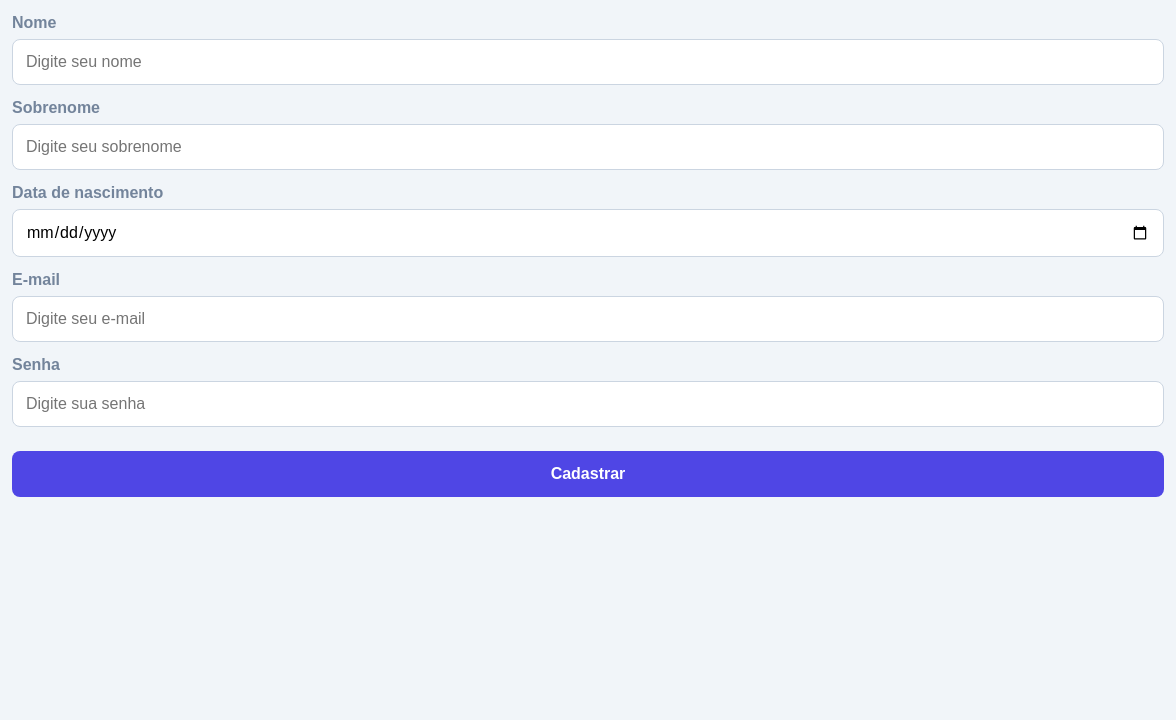
CadastroForm › informa quando o e-mail já está cadastrado
In the field labelled "Nome": [588, 62] box [12,39,1164,85], type "Amanda"
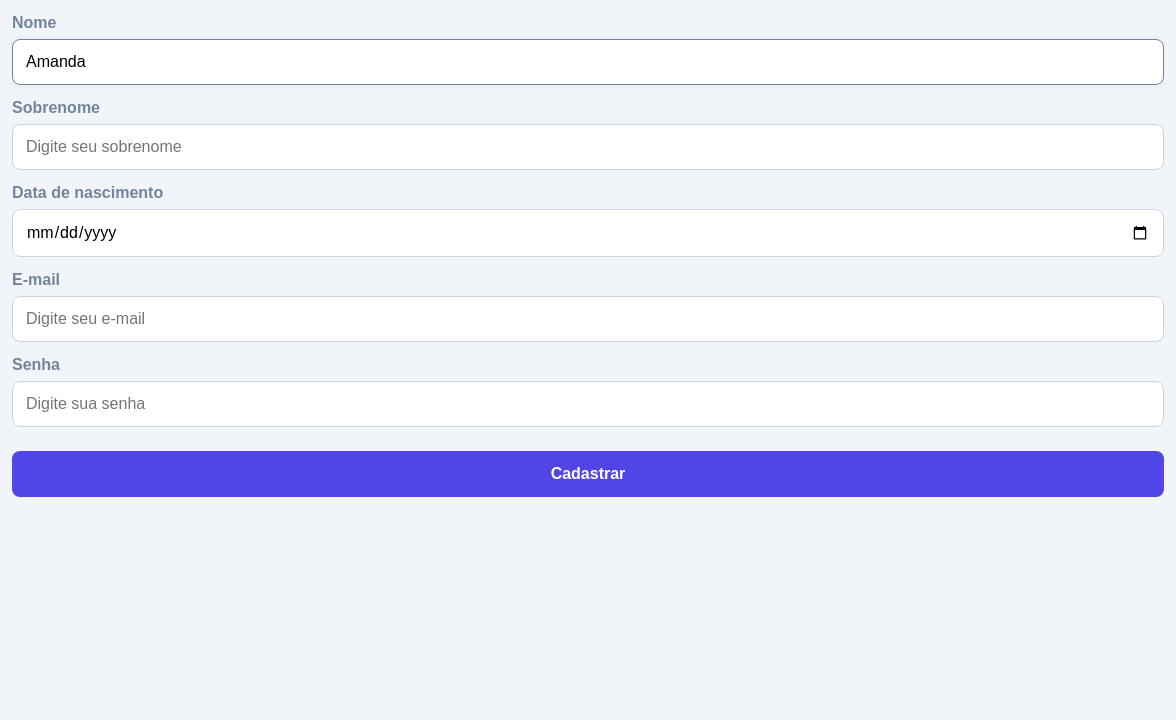
In the field labelled "Sobrenome": [588, 147] box [12,124,1164,170], type "Stunitz"
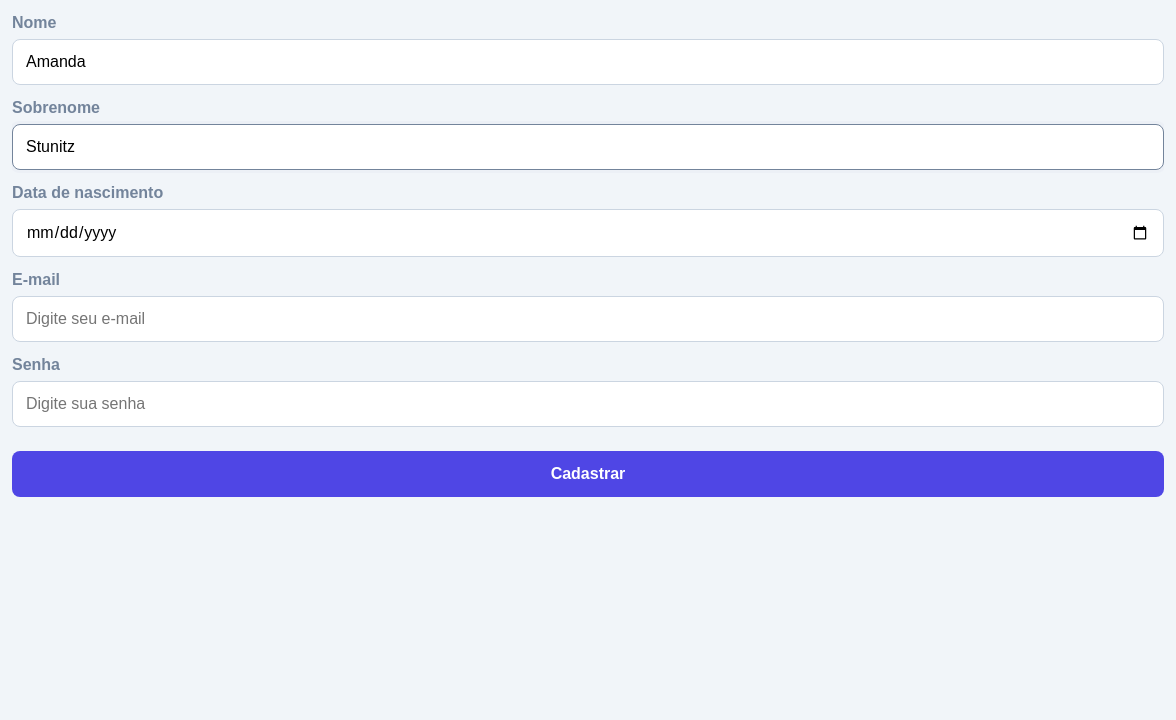
In the date field labelled "Data de nascimento": [588, 233] box [12,209,1164,257], type "2000-05-20"
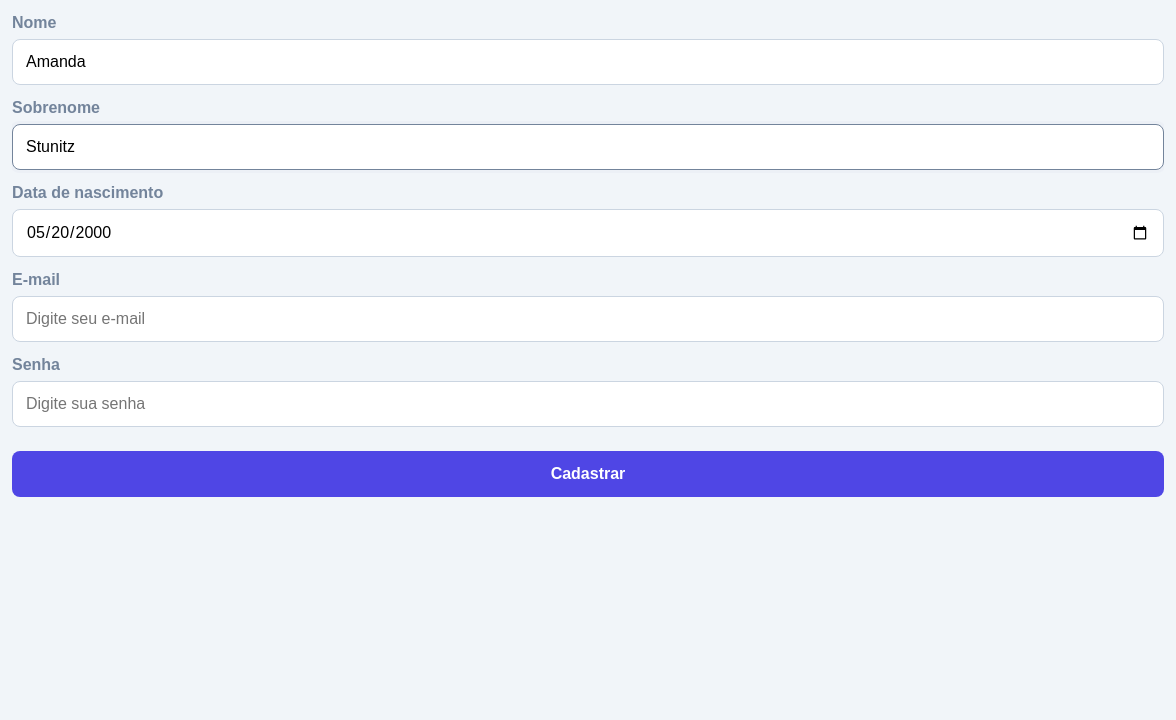
In the field labelled "E-mail": [588, 319] box [12,296,1164,342], type "amanda@teste.com"
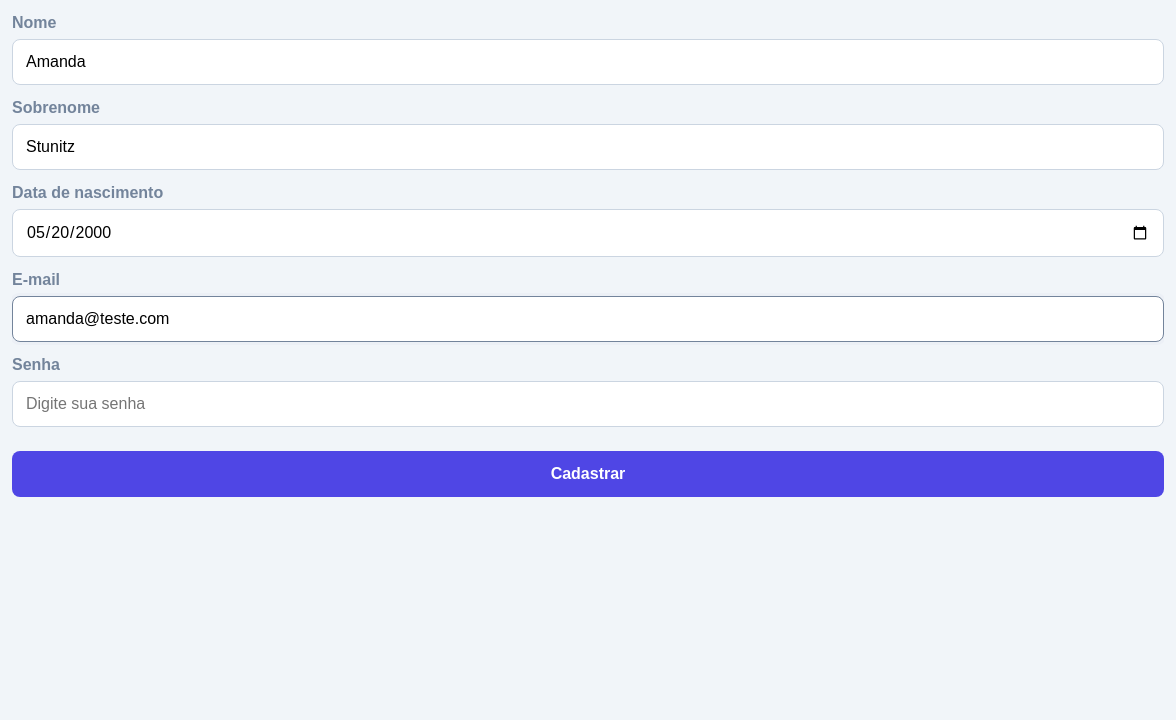
In the password field labelled "Senha": [588, 404] box [12,381,1164,427], type "123456"
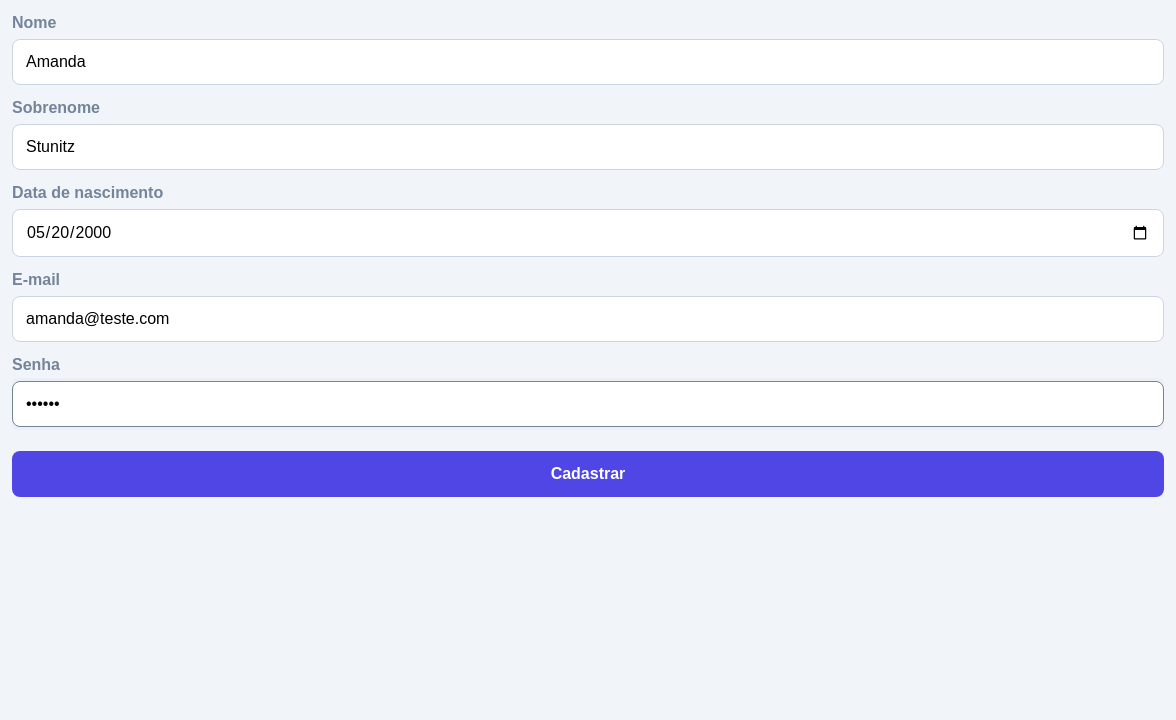
Click the button "Cadastrar": [588, 474] box [12,451,1164,497]
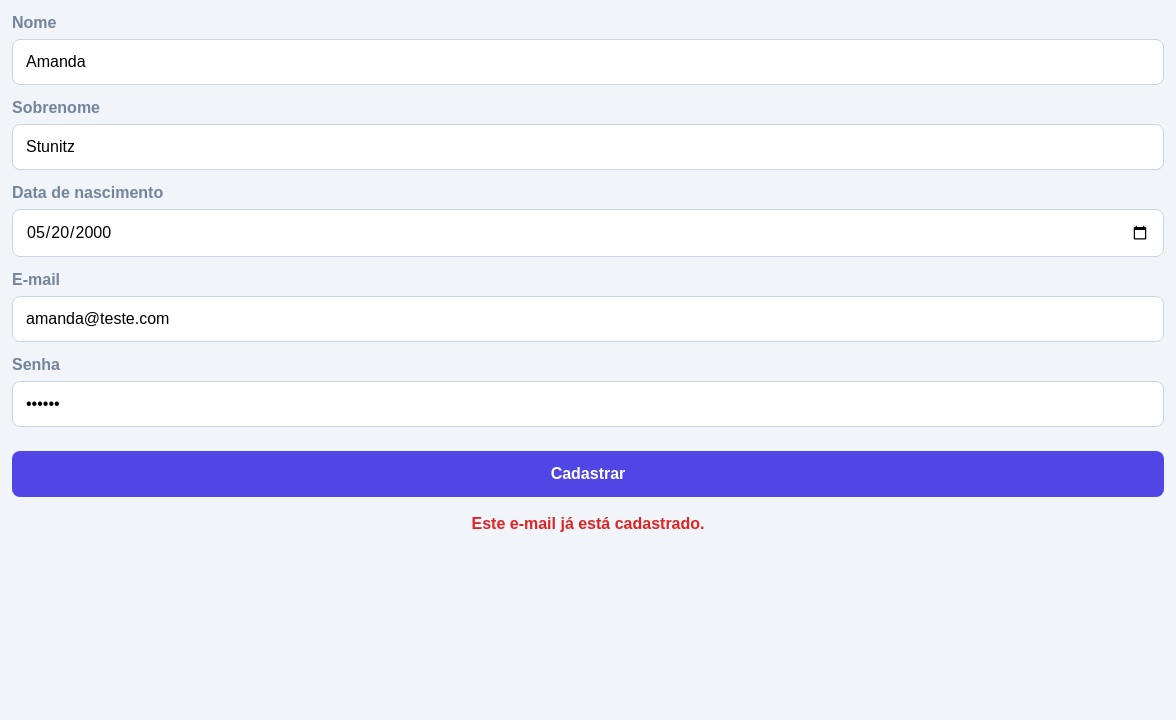
Check: the text "Este e-mail já está cadastrado." is shown, box [472,515,704,532]
